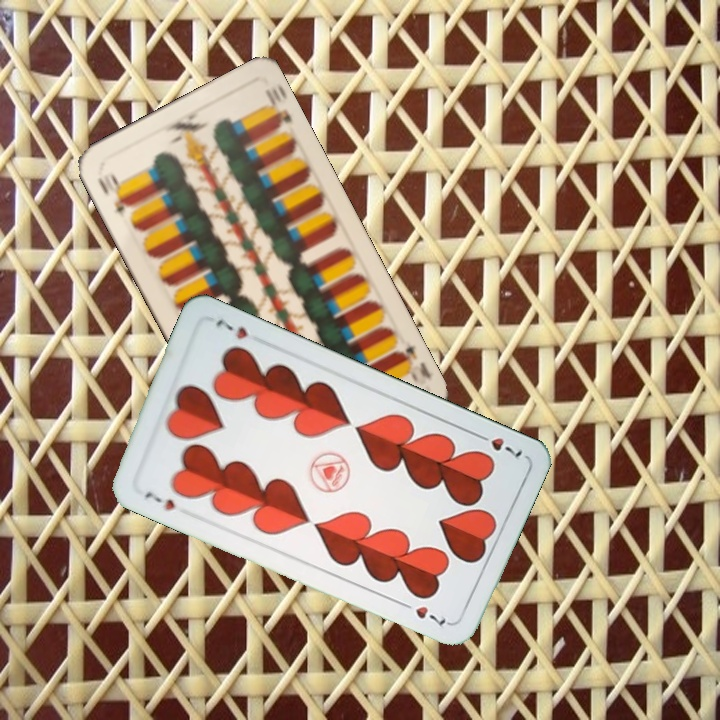E10: (390, 341, 434, 388), (93, 169, 134, 216)
H7: (470, 428, 525, 460), (140, 486, 178, 514)
